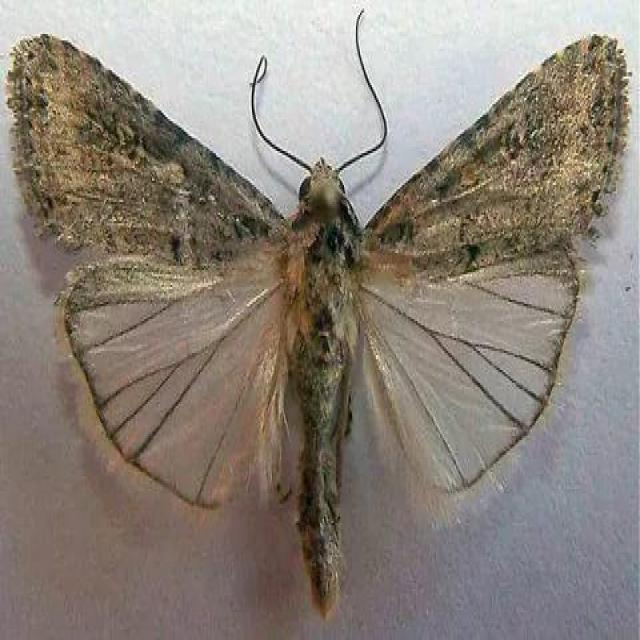BeetArmyWorm-Adult-: (8, 10, 630, 626)
